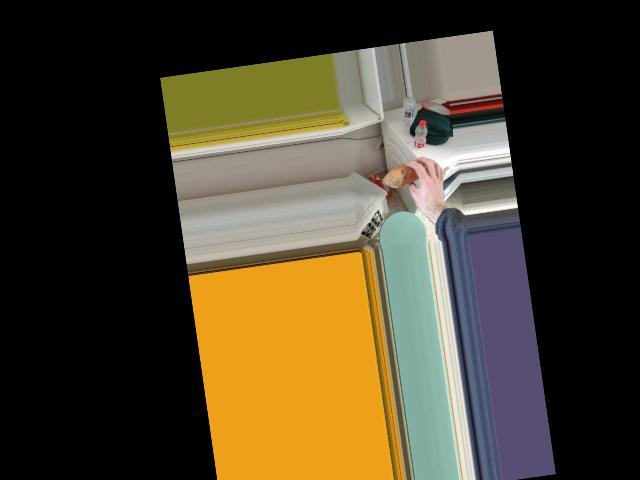sweet_potato: (382, 160, 433, 188)
